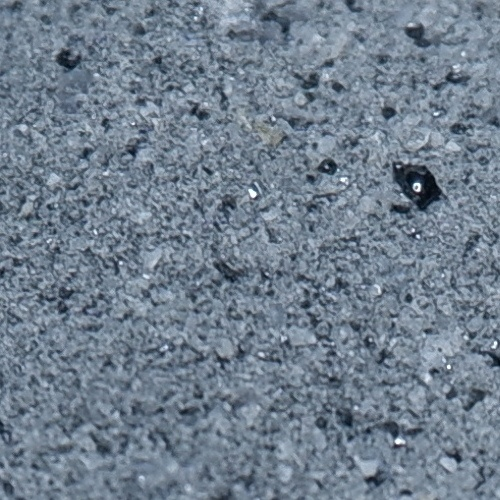glass: (391, 159, 444, 210), (56, 48, 82, 70), (405, 19, 426, 40), (317, 157, 338, 174), (447, 69, 470, 84), (382, 106, 397, 121), (450, 122, 467, 135), (193, 109, 209, 121), (331, 81, 344, 93)
